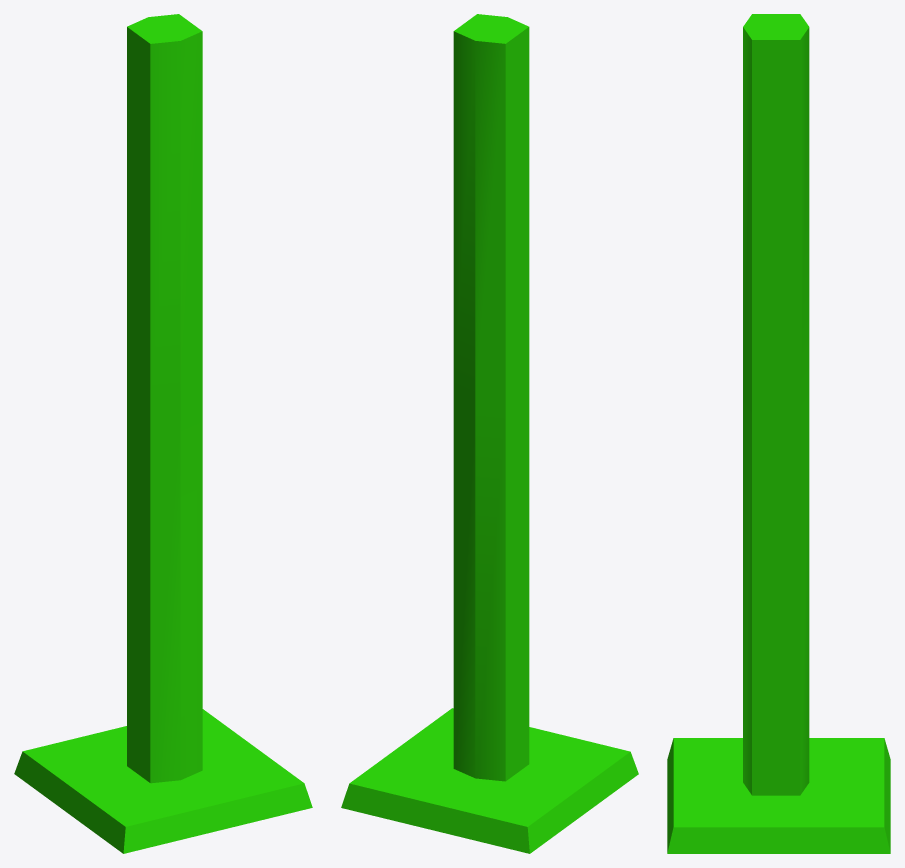
Rendered from Crash_Barrier_Pole_01_Lod0.fbx.
The picture shows the model from 3 angles, left to right: view 1: azimuth 30°, elevation 25°; view 2: azimuth 150°, elevation 25°; view 3: azimuth 270°, elevation 25°; orthographic projection. The views are drawn at different scales.
Parts seen in each view (by area): view 1: Crash_Barrier_Pole_01_Lod0; view 2: Crash_Barrier_Pole_01_Lod0; view 3: Crash_Barrier_Pole_01_Lod0.
Boxes of the visible parts, x1,y1,x2,y2 form: Crash_Barrier_Pole_01_Lod0: [14, 14, 312, 853]; Crash_Barrier_Pole_01_Lod0: [341, 14, 638, 853]; Crash_Barrier_Pole_01_Lod0: [667, 14, 890, 853].
Size of the model in its own units: 20.03 by 77.27 by 20.03.
